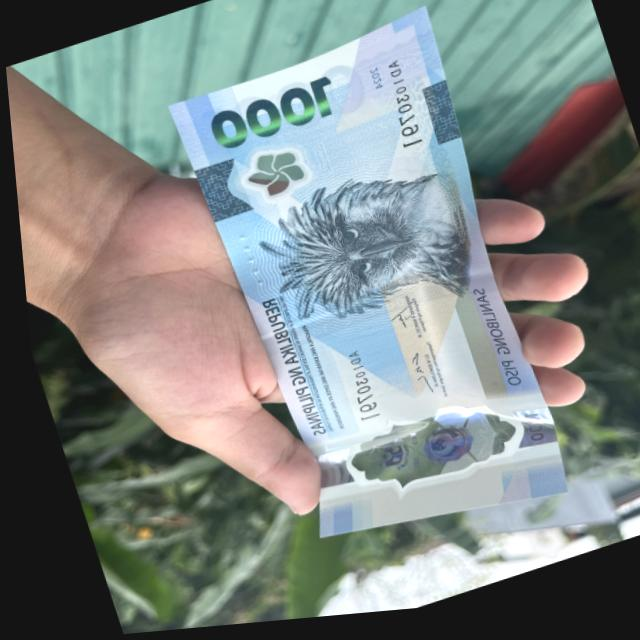clear_window: (280, 379, 561, 540)
eagle: (238, 157, 480, 353)
sampaguita: (227, 133, 337, 215)
security_thread: (251, 278, 491, 361)
serial_number: (371, 61, 422, 157), (329, 350, 372, 430)
